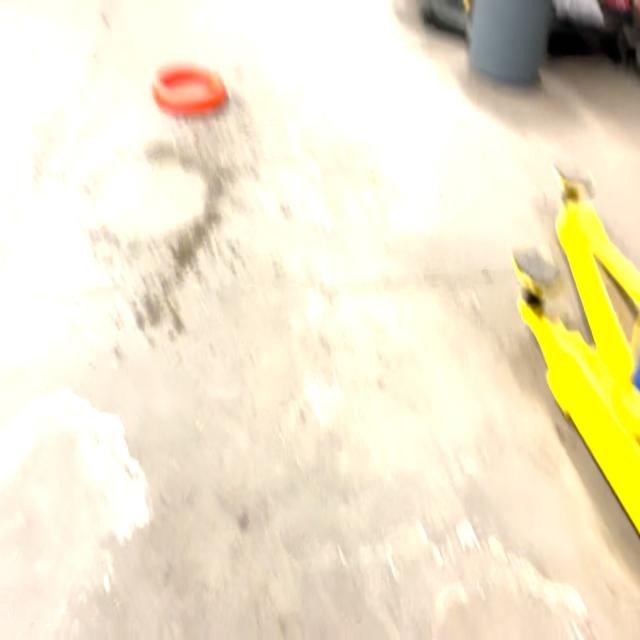note: (151, 60, 229, 116)
